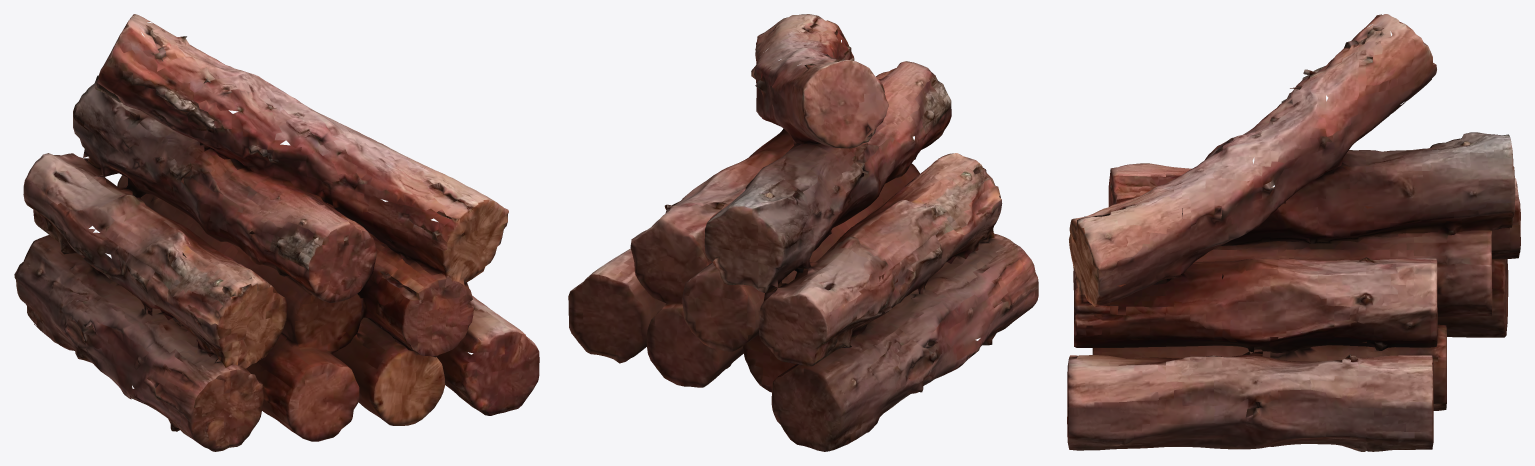
Rendered from logs.glb.
3 views of the same model, side by side, from view 1: azimuth 30°, elevation 25°; view 2: azimuth 150°, elevation 25°; view 3: azimuth 270°, elevation 25° (orthographic). The views are drawn at different scales.
Visible parts, largest first — view 1: logs; view 2: logs; view 3: logs.
Boxes of the visible parts, bbox=[...] form: logs: bbox=[14, 14, 539, 451]; logs: bbox=[568, 14, 1038, 451]; logs: bbox=[1067, 14, 1520, 451].
Size of the model in its own units: 0.7921 by 0.7903 by 0.9784.
1 material, 1 textured.
